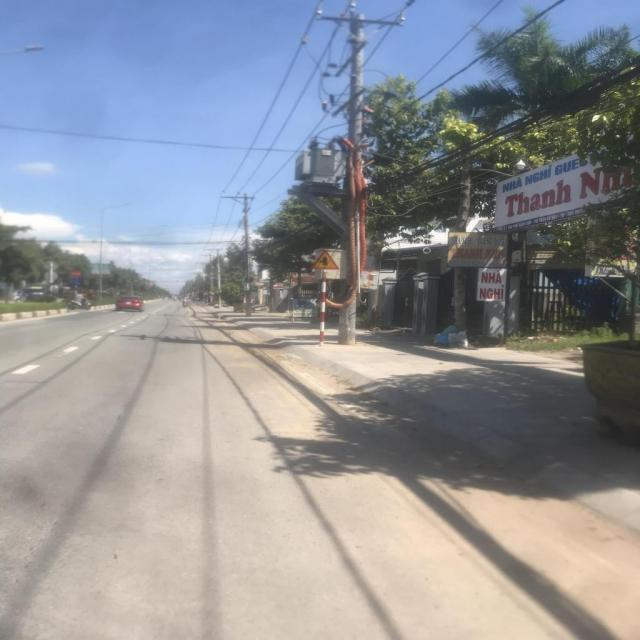cam_xe_di_nguoc_chieu: (70, 270, 82, 278)
giao_nhau_voi_duong_khong_uu_tien: (312, 250, 338, 269)
huong_phai_di_vuot_chuong_ngai_vat_phai: (70, 278, 82, 286)
